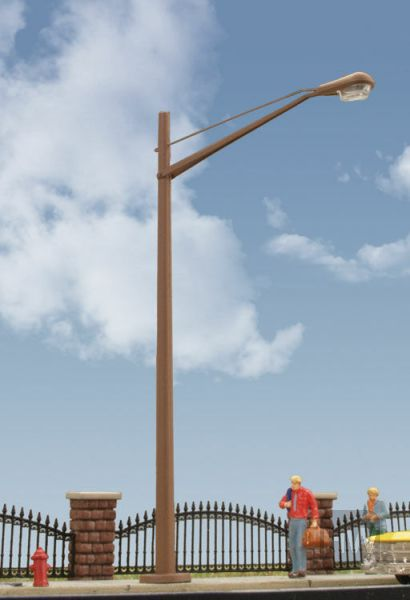light_pole: (144, 102, 190, 588)
